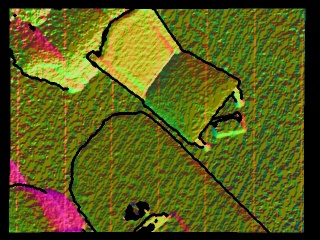station: (212, 111, 247, 139)
